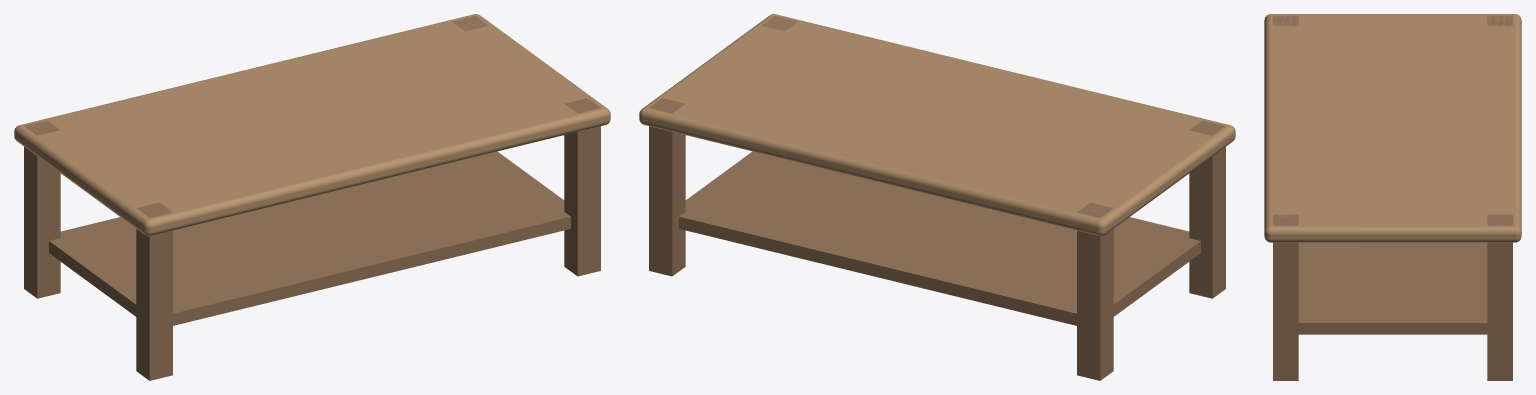
File: coffee_table.glb
The picture shows the model from 3 angles, left to right: view 1: azimuth 30°, elevation 25°; view 2: azimuth 150°, elevation 25°; view 3: azimuth 270°, elevation 25°; orthographic projection. The views are drawn at different scales.
Visible parts, largest first — view 1: top, shelf, leg_fl, leg_fr, leg_bl; view 2: top, shelf, leg_bl, leg_br, leg_fl; view 3: top, shelf, leg_br, leg_fr, leg_bl, leg_fl.
Part boxes in pixels (x1=…): top: x1=14, y1=14, x2=610, y2=236; shelf: x1=49, y1=151, x2=570, y2=325; leg_fl: x1=136, y1=202, x2=172, y2=380; leg_fr: x1=564, y1=98, x2=600, y2=276; leg_bl: x1=24, y1=120, x2=60, y2=298; top: x1=639, y1=14, x2=1235, y2=236; shelf: x1=679, y1=151, x2=1200, y2=325; leg_bl: x1=1077, y1=202, x2=1113, y2=380; leg_br: x1=649, y1=98, x2=685, y2=276; leg_fl: x1=1189, y1=120, x2=1225, y2=298; top: x1=1264, y1=14, x2=1521, y2=242; shelf: x1=1298, y1=242, x2=1487, y2=334; leg_br: x1=1487, y1=214, x2=1512, y2=380; leg_fr: x1=1273, y1=214, x2=1298, y2=380; leg_bl: x1=1487, y1=15, x2=1512, y2=26; leg_fl: x1=1273, y1=15, x2=1298, y2=26.
Bounding box in the file's own units: 1.2 × 0.4 × 0.6.
